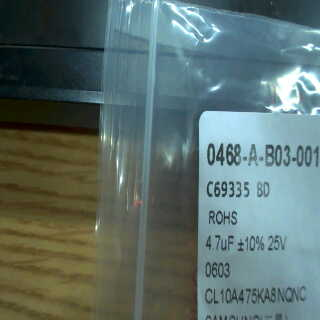4.7uF: (204, 232, 235, 254)
